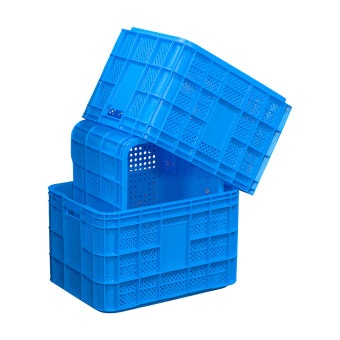plastic: (49, 25, 291, 314)
